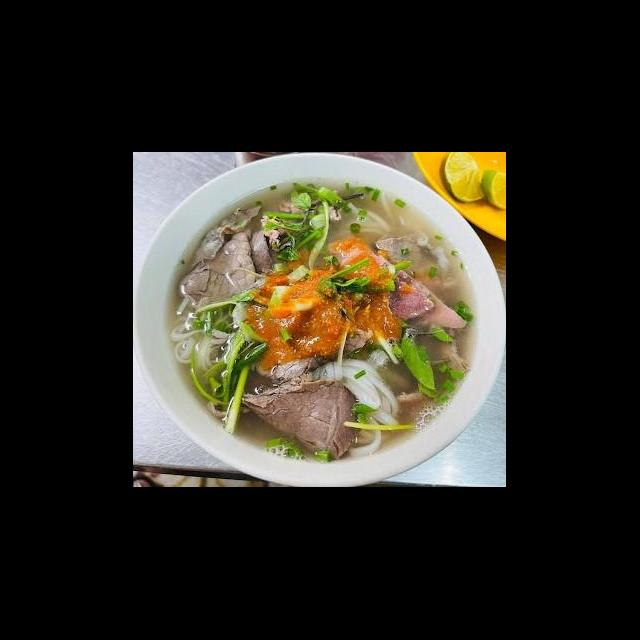banh pho: (312, 356, 406, 462), (170, 298, 250, 377), (328, 186, 408, 248)
pho bo: (154, 168, 506, 488)
thit bo: (326, 235, 468, 332), (242, 302, 378, 386), (238, 380, 358, 458), (176, 230, 256, 312), (185, 200, 268, 274), (370, 230, 460, 298), (260, 186, 346, 250), (264, 356, 330, 374), (342, 322, 374, 352)
